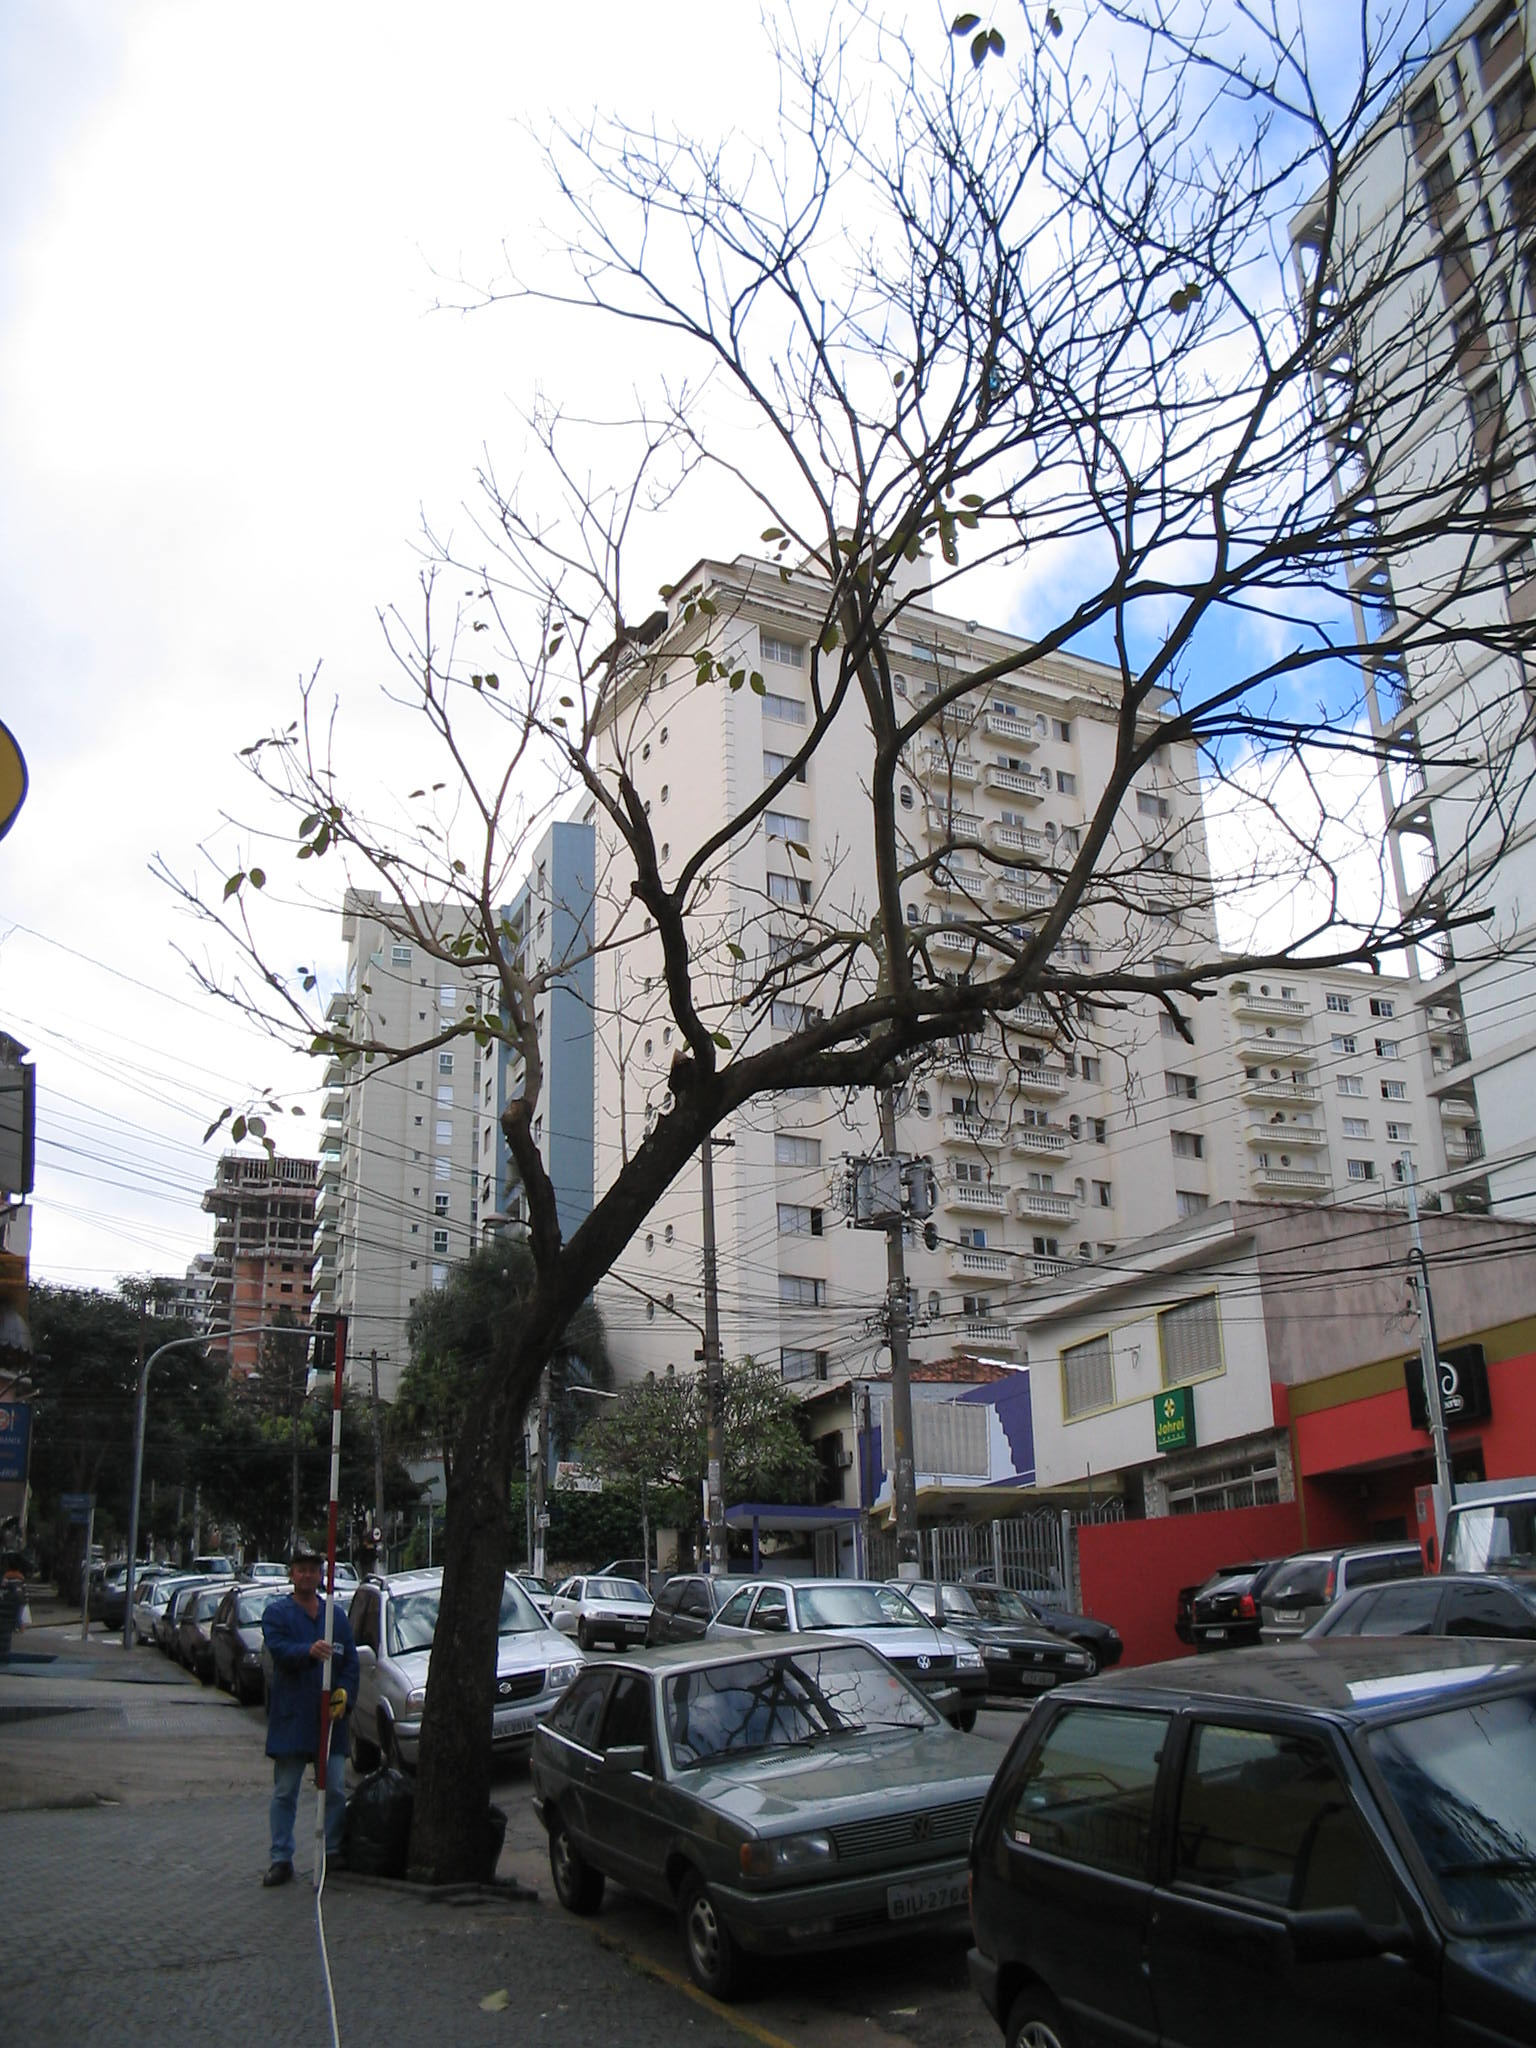stem: (378, 1311, 591, 1882)
stick: (281, 1317, 373, 1888)
tree: (139, 3, 1533, 1887)
